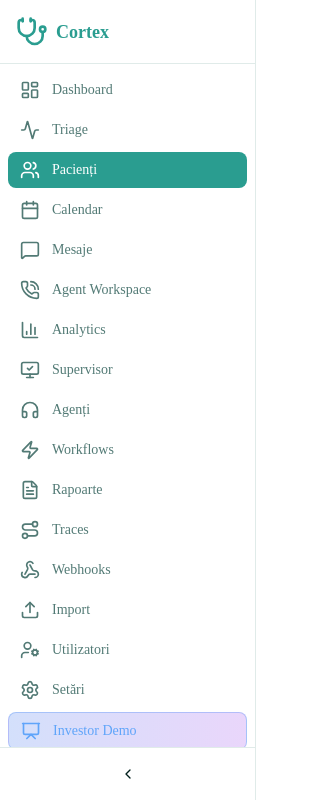
Sidebar › should toggle sidebar collapse state
Click the button named "restrânge bara laterală": (128, 774) x1=8 y1=756 x2=247 y2=792
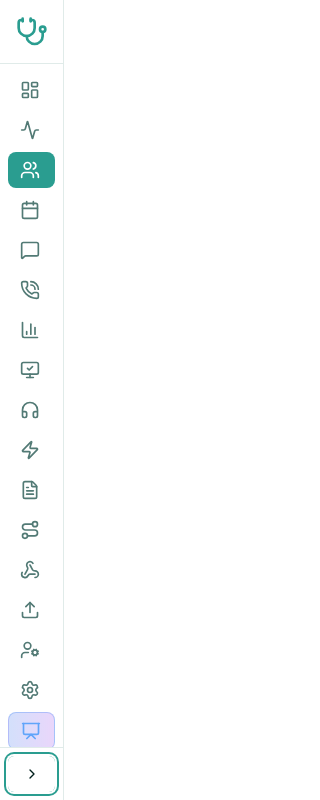
Expected: the button named "extinde bara laterală" is shown, x1=8 y1=756 x2=55 y2=792
